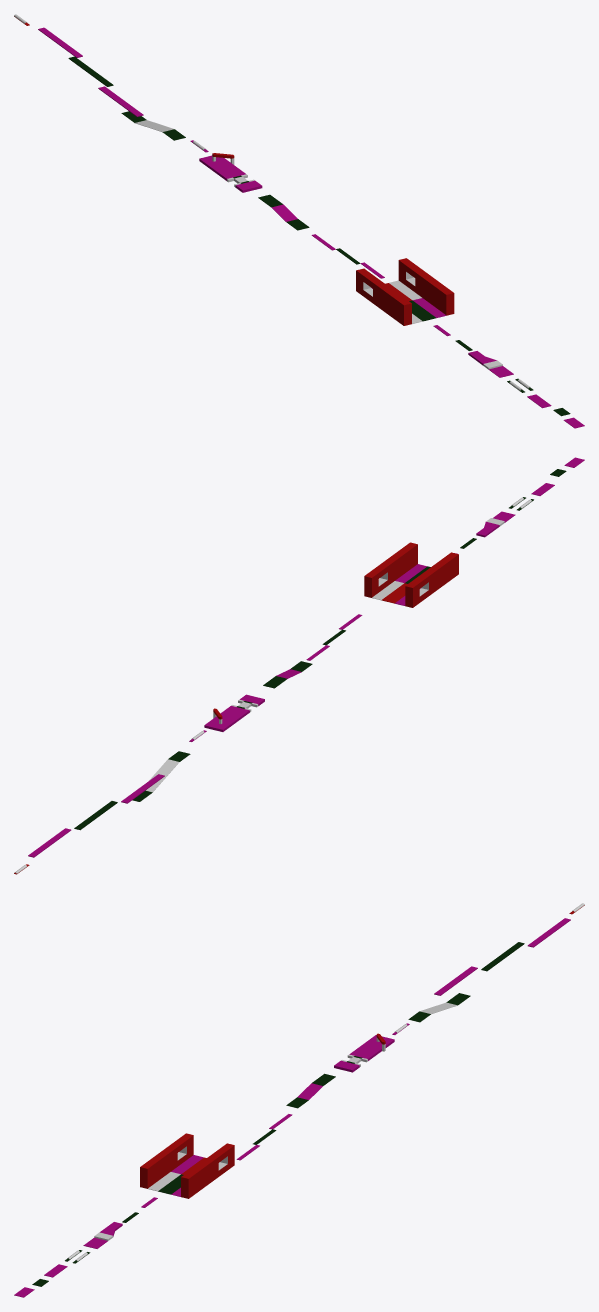
The model's file is road7.obj.
3 views of the same model, one above another, from view 1: azimuth 30°, elevation 25°; view 2: azimuth 150°, elevation 25°; view 3: azimuth 330°, elevation 25° (orthographic). The views are drawn at different scales.
Parts seen in each view (by area): view 1: Cube.001_Cube.000; view 2: Cube.001_Cube.000; view 3: Cube.001_Cube.000.
Part boxes in pixels (x1,y1,x2,y2): Cube.001_Cube.000: (14, 14, 584, 428); Cube.001_Cube.000: (14, 457, 584, 874); Cube.001_Cube.000: (14, 903, 584, 1297).
Size of the model in its own units: 43.44 by 31.61 by 858.
